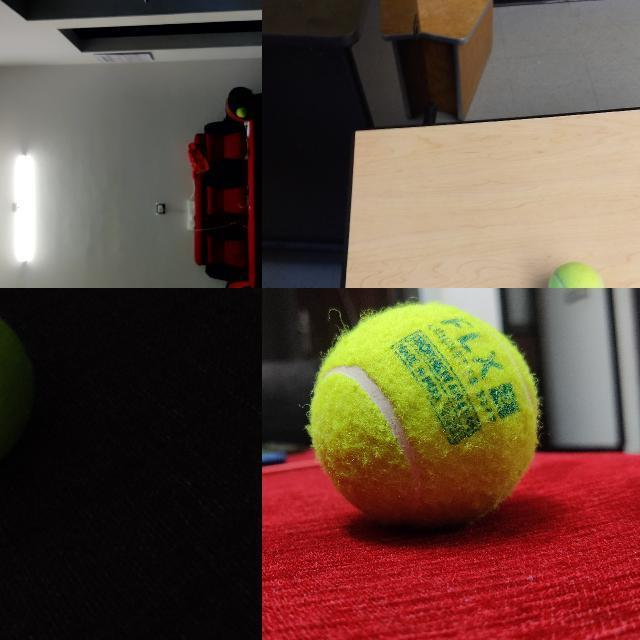tennis-ball: (304, 300, 545, 532), (546, 261, 605, 287), (236, 107, 247, 117)
